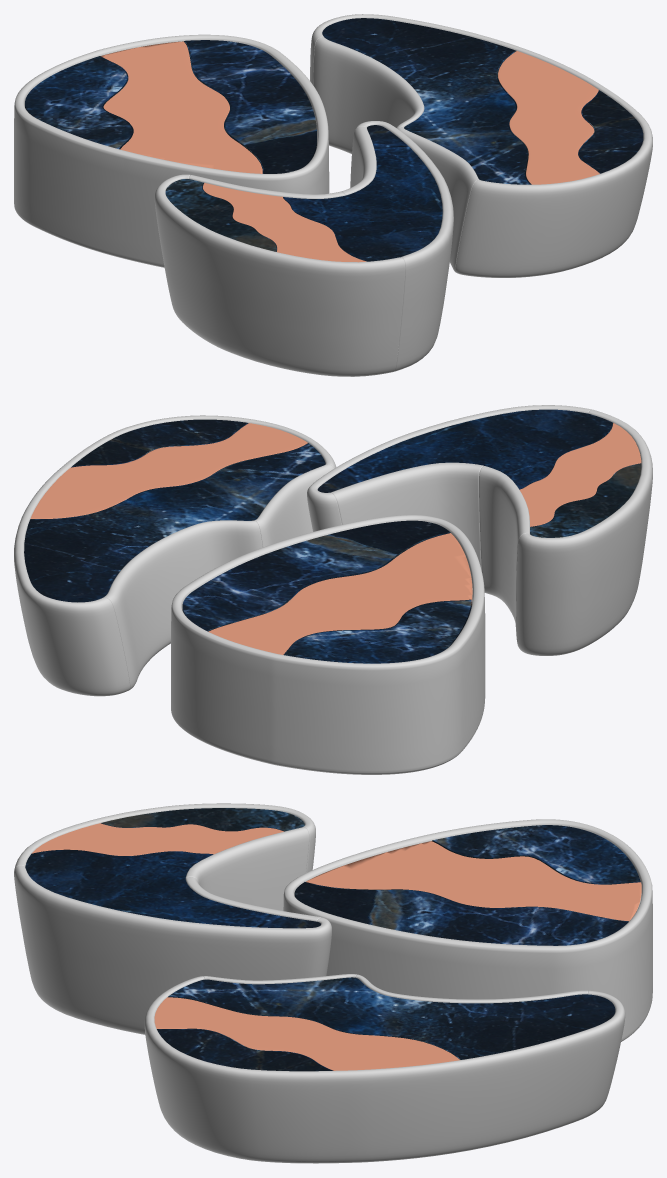
The model's file is SLN_ISLAND_IN_THE_STREAM.glb.
The picture shows the model from 3 angles, top to bottom: view 1: azimuth 30°, elevation 25°; view 2: azimuth 150°, elevation 25°; view 3: azimuth 270°, elevation 25°; orthographic projection. The views are drawn at different scales.
Visible parts, largest first — view 1: ISLAND IN THE STREAM; view 2: ISLAND IN THE STREAM; view 3: ISLAND IN THE STREAM.
Part boxes in pixels (<box>): ISLAND IN THE STREAM: <box>14,14,652,376</box>; ISLAND IN THE STREAM: <box>14,405,652,774</box>; ISLAND IN THE STREAM: <box>14,803,652,1163</box>.
Size of the model in its own units: 1.66 by 0.3972 by 1.83.
3 materials, 1 textured.
